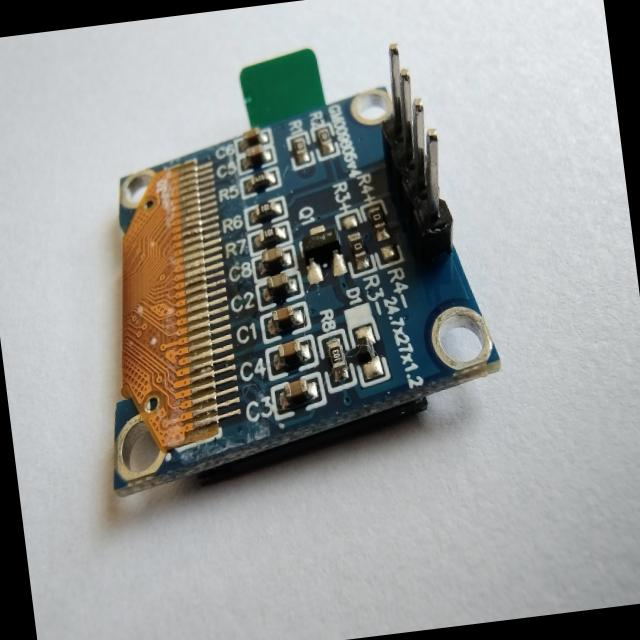oled: (74, 49, 528, 514)
